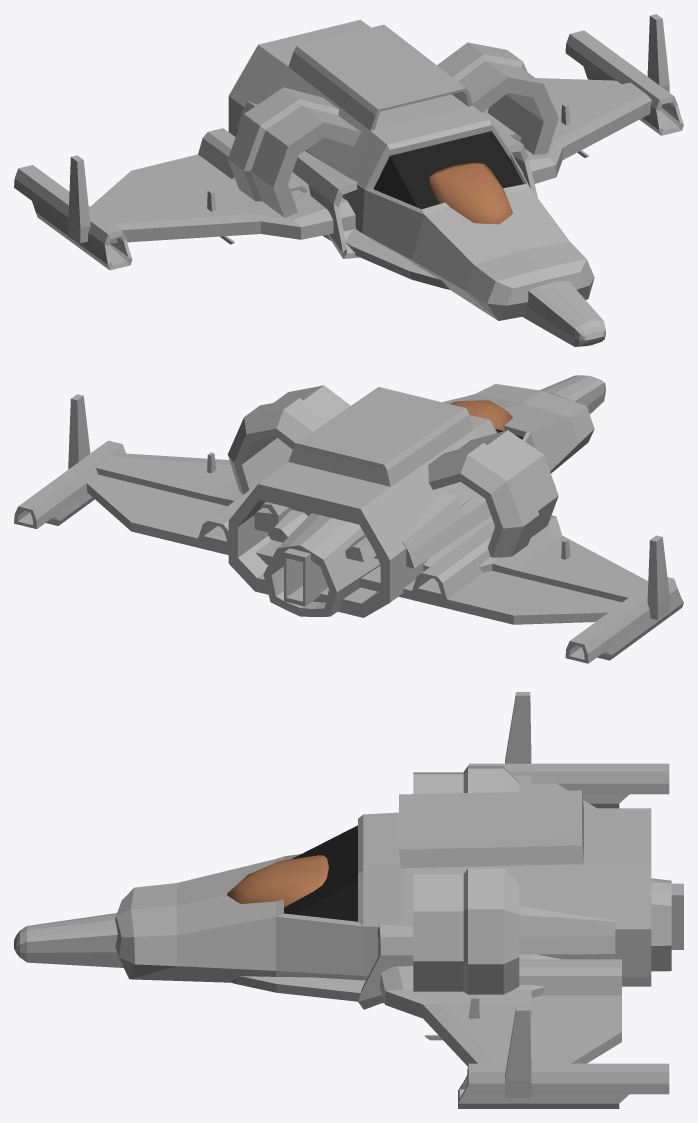
The model's file is ships.glb.
The picture shows the model from 3 angles, top to bottom: view 1: azimuth 30°, elevation 25°; view 2: azimuth 150°, elevation 25°; view 3: azimuth 270°, elevation 25°; orthographic projection. The views are drawn at different scales.
Parts seen in each view (by area): view 1: ship5, ship3, ship1; view 2: ship5, ship3, ship1; view 3: ship5, ship3, ship1.
Boxes of the visible parts, <box> form: ship5: <box>68,14,669,320</box>; ship3: <box>14,30,683,346</box>; ship1: <box>322,229,449,289</box>; ship5: <box>68,384,669,620</box>; ship3: <box>14,375,683,663</box>; ship1: <box>270,509,376,606</box>; ship5: <box>115,692,651,1098</box>; ship3: <box>14,763,671,1108</box>; ship1: <box>230,883,683,1003</box>.
Bounding box in the file's own units: 10.62 × 2.36 × 9.38.
